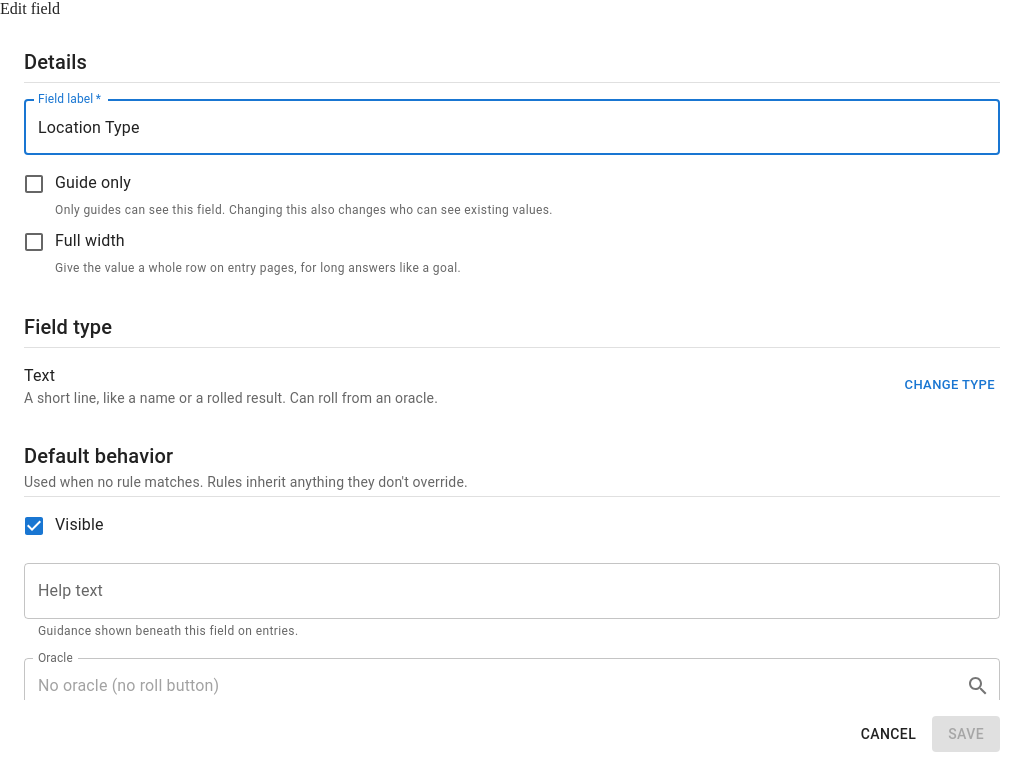
Test case: WorldFieldEditor › names dependent public fields before making their source Guide-only
This screenshot has width=1024, height=768.
Click the checkbox labelled "Guide only": (72, 188) [13,171,131,205]
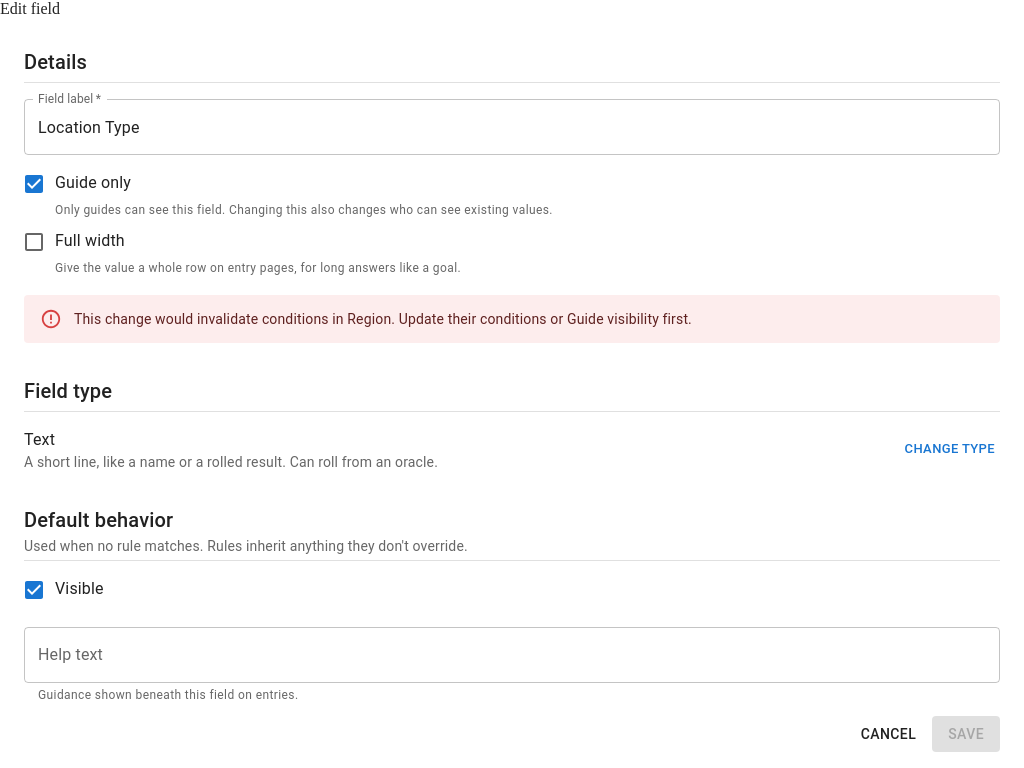
Expected: the button "Save" is disabled, [932,716,1000,752]
Expected: the message shows "conditions in Region", [74,311,692,327]
